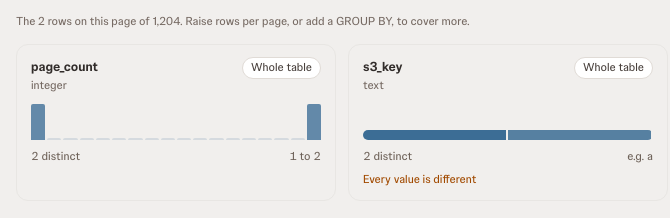
Test case: a card swaps to its column over the whole table and back, asking once
Later steps or results of the test are not shown.
Expected: the element showing "page_count integer Whole table 2 distinct 1 to 2" is shown, [16, 44, 336, 201]
Click the button "Whole table" next to "page_count": (282, 68) [242, 57, 321, 79]
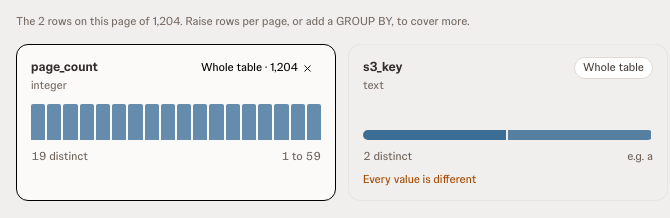
Expected: the text "1,204" is not shown
Result: the element showing "page_count integer Whole table · 1,204 19 distinct 1 to 59" is shown at [16, 44, 336, 201]
Click the button "Whole table · 1,204": (257, 68) [193, 57, 321, 79]
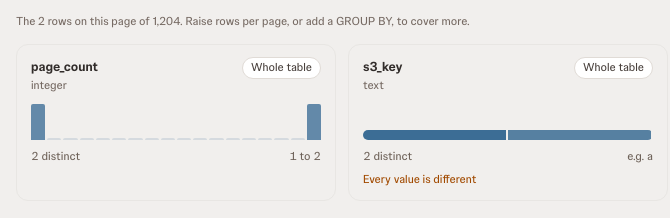
Result: the element showing "page_count integer Whole table 2 distinct 1 to 2" is shown at [16, 44, 336, 201]
Click the button "Whole table" next to "page_count": (282, 68) [242, 57, 321, 79]
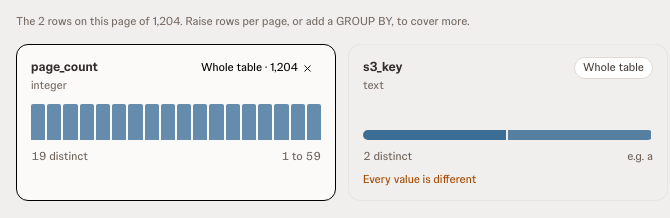
Result: the element showing "page_count integer Whole table · 1,204 19 distinct 1 to 59" is shown at [16, 44, 336, 201]
